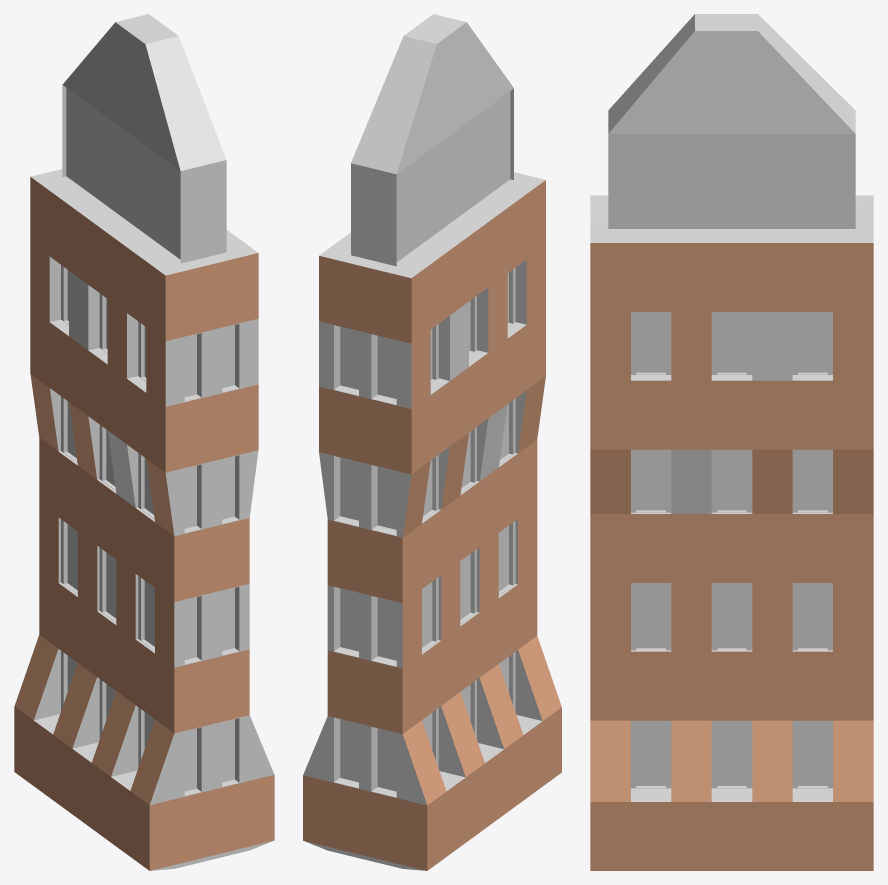
The model's file is copacabana_tower.fbx.
The picture shows the model from 3 angles, left to right: view 1: azimuth 30°, elevation 25°; view 2: azimuth 150°, elevation 25°; view 3: azimuth 270°, elevation 25°; orthographic projection. The views are drawn at different scales.
Visible parts, largest first — view 1: copacabana_tower; view 2: copacabana_tower; view 3: copacabana_tower.
Part boxes in pixels (left/top/right/bottom): copacabana_tower: left=14, top=14, right=274, bottom=870; copacabana_tower: left=303, top=14, right=561, bottom=870; copacabana_tower: left=590, top=14, right=873, bottom=870.
Bounding box in the file's own units: 66.29 × 397 × 124.
